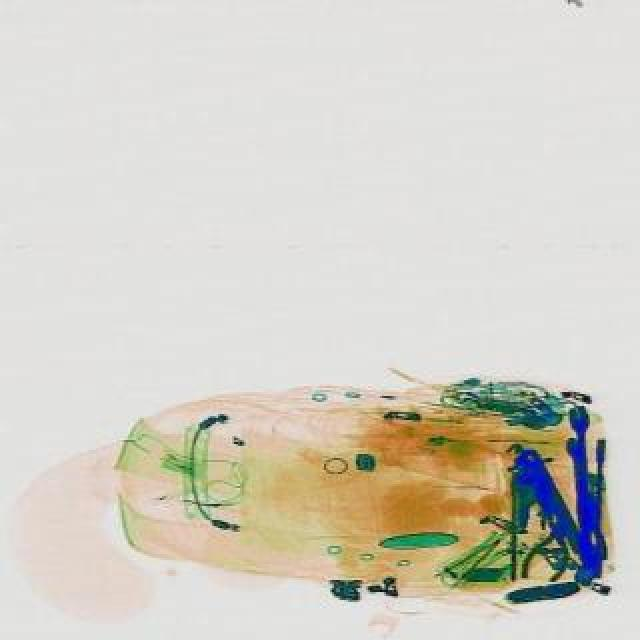wrench: (514, 506, 584, 590)
